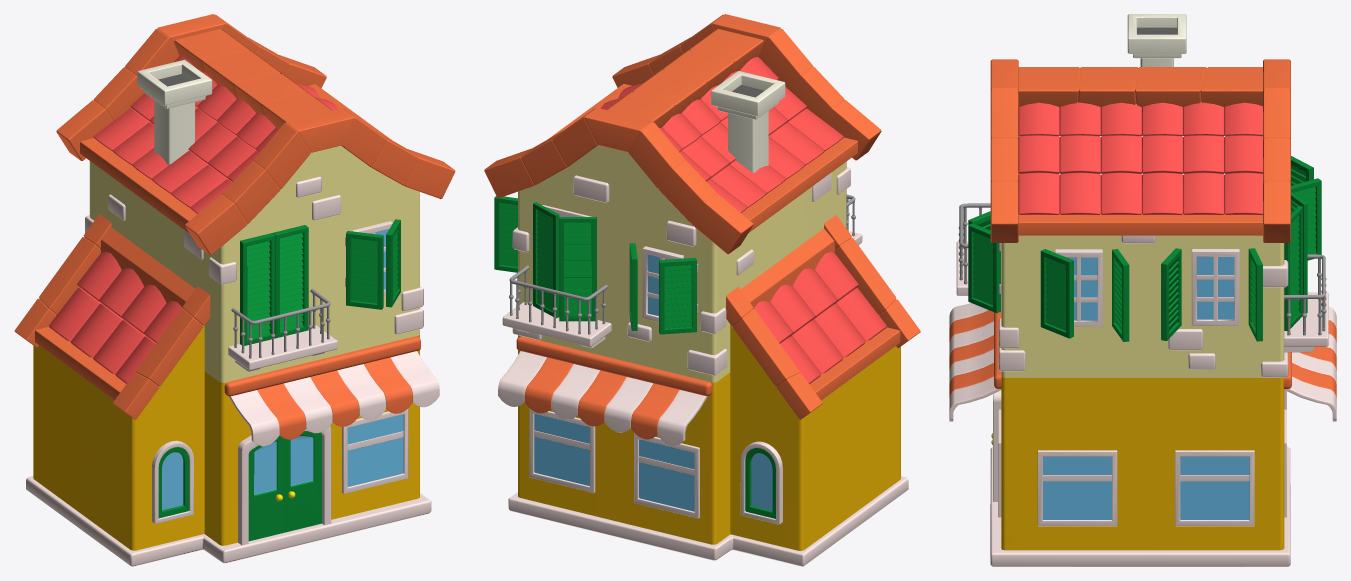
File: City_9_House_1.glb
3 renders of one model, left to right at view 1: azimuth 30°, elevation 25°; view 2: azimuth 150°, elevation 25°; view 3: azimuth 270°, elevation 25°, orthographic. The views are drawn at different scales.
Parts seen in each view (by area): view 1: City_9_House_1; view 2: City_9_House_1; view 3: City_9_House_1.
Boxes of the visible parts, x1,y1,x2,y2 form: City_9_House_1: (14, 14, 455, 566); City_9_House_1: (484, 14, 920, 566); City_9_House_1: (949, 14, 1336, 566).
Bounding box in the file's own units: 7.62 × 9.74 × 7.6.
1 material, 1 textured.
